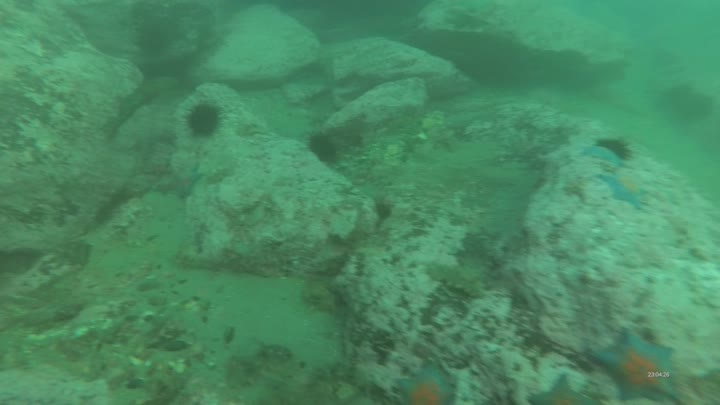echinus: (134, 18, 180, 58), (182, 102, 221, 136), (308, 135, 338, 163), (597, 137, 633, 159), (374, 201, 393, 220)
holothurian: (429, 262, 485, 299), (192, 37, 229, 70)
starfish: (593, 326, 682, 403), (392, 363, 457, 405), (528, 372, 592, 405), (600, 175, 647, 210), (173, 165, 205, 199), (583, 144, 623, 167)
